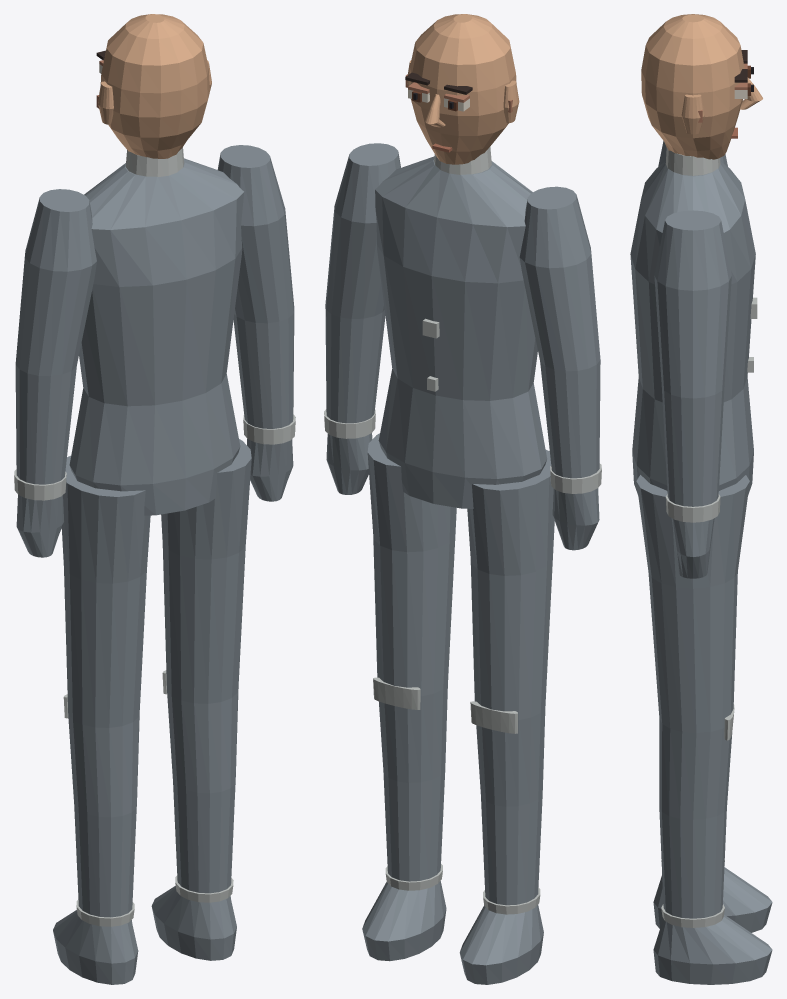
File: visual-far.glb
The picture shows the model from 3 angles, left to right: view 1: azimuth 30°, elevation 25°; view 2: azimuth 150°, elevation 25°; view 3: azimuth 270°, elevation 25°; orthographic projection.
Visible parts, largest first — view 1: 精细体素青少年身体母版 · 年龄身高安装派生, 精细儿童头部母版; view 2: 精细体素青少年身体母版 · 年龄身高安装派生, 精细儿童头部母版; view 3: 精细体素青少年身体母版 · 年龄身高安装派生, 精细儿童头部母版.
Boxes of the visible parts, bbox=[...] form: 精细体素青少年身体母版 · 年龄身高安装派生: bbox=[14, 145, 295, 984]; 精细儿童头部母版: bbox=[96, 14, 211, 158]; 精细体素青少年身体母版 · 年龄身高安装派生: bbox=[324, 143, 601, 984]; 精细儿童头部母版: bbox=[405, 14, 519, 164]; 精细体素青少年身体母版 · 年龄身高安装派生: bbox=[630, 141, 772, 984]; 精细儿童头部母版: bbox=[641, 14, 762, 159].
Size of the model in its own units: 0.4893 by 1.6 by 0.2217.
Materials: 9 (9 with a texture image).
